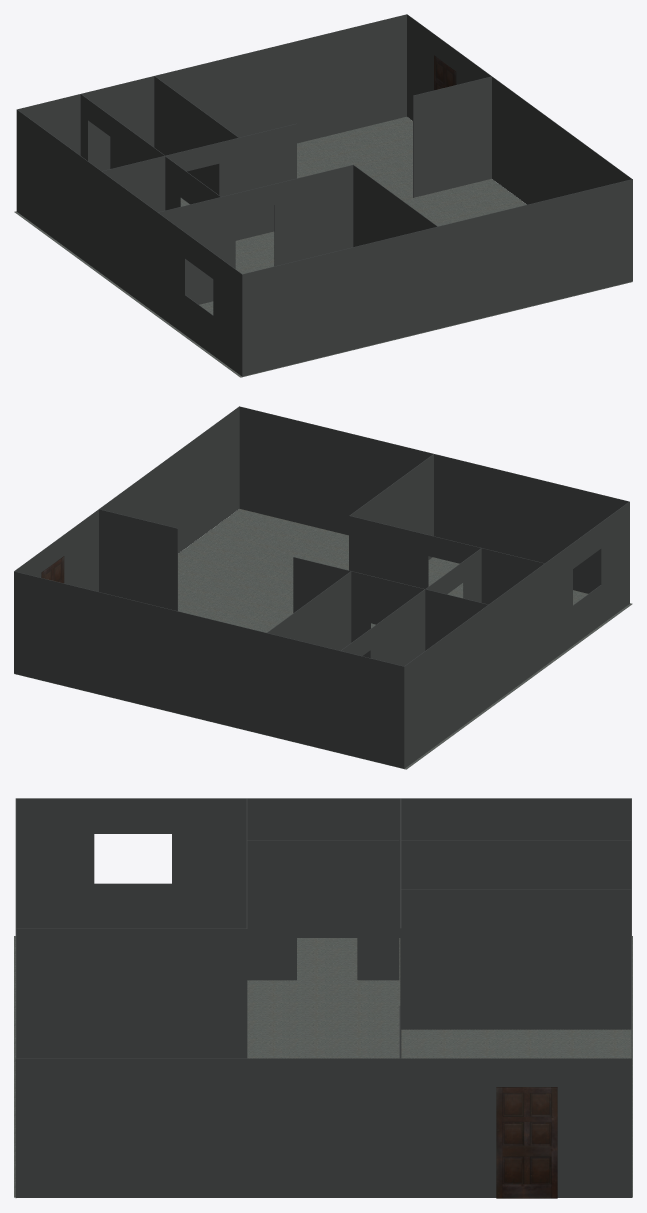
Rendered from apt1.glb.
3 renders of one model, top to bottom at view 1: azimuth 30°, elevation 25°; view 2: azimuth 150°, elevation 25°; view 3: azimuth 270°, elevation 25°, orthographic. The views are drawn at different scales.
Visible parts, largest first — view 1: Cube.005, Cube.003, Cube.004, Cube.001, Plane, Cube.006, Cube.007, Cube.010, Cube.008, Cube.002, Cube.009, Cube.011 (+1 smaller); view 2: Cube.003, Cube.005, Cube.004, Plane, Cube.001, Cube.006, Cube.010, Cube.007, Cube.002, Cube.008, Cube.009, Cube.011; view 3: Cube.001, Cube.004, Cube.008, Cube.002, Plane, Cube.011, Cube.009, Door.001, Cube.005.
Part boxes in pixels (<box>): Cube.005: <box>242,179,632,376</box>; Cube.003: <box>16,14,406,211</box>; Cube.004: <box>17,109,242,376</box>; Cube.001: <box>407,14,632,281</box>; Plane: <box>14,116,632,377</box>; Cube.006: <box>158,165,353,304</box>; Cube.007: <box>102,123,296,240</box>; Cube.010: <box>413,76,491,197</box>; Cube.008: <box>154,76,238,204</box>; Cube.002: <box>353,164,437,246</box>; Cube.009: <box>80,94,164,168</box>; Cube.011: <box>165,156,220,210</box>; Cube.003: <box>14,571,404,768</box>; Cube.005: <box>239,406,628,593</box>; Cube.004: <box>404,501,629,768</box>; Plane: <box>15,509,632,769</box>; Cube.001: <box>14,406,239,591</box>; Cube.006: <box>349,516,544,624</box>; Cube.010: <box>99,509,177,610</box>; Cube.007: <box>293,557,488,657</box>; Cube.002: <box>349,454,433,570</box>; Cube.008: <box>267,571,351,650</box>; Cube.009: <box>341,589,425,666</box>; Cube.011: <box>426,548,481,602</box>; Cube.001: <box>16,1058,631,1197</box>; Cube.004: <box>16,798,631,937</box>; Cube.008: <box>400,889,631,1029</box>; Cube.002: <box>16,928,247,1058</box>; Plane: <box>14,936,632,1197</box>; Cube.011: <box>247,840,399,980</box>; Cube.009: <box>401,840,631,889</box>; Door.001: <box>496,1087,557,1198</box>; Cube.005: <box>15,799,16,1197</box>.
Size of the model in its own units: 80.59 by 20.09 by 80.43.
Materials: 6 (2 with a texture image).
